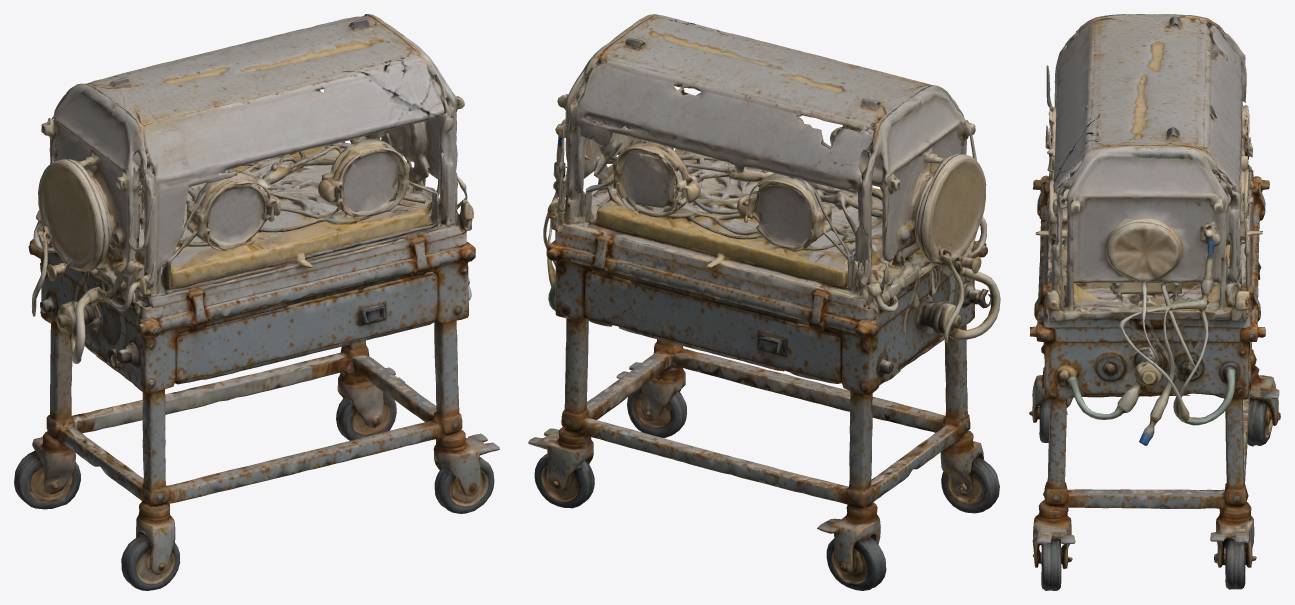
Rendered from Incubator.fbx.
The picture shows the model from 3 angles, left to right: view 1: azimuth 30°, elevation 25°; view 2: azimuth 150°, elevation 25°; view 3: azimuth 270°, elevation 25°; orthographic projection. The views are drawn at different scales.
Parts seen in each view (by area): view 1: texture_mapping; view 2: texture_mapping; view 3: texture_mapping.
Part boxes in pixels (x1,y1,x2,y2): texture_mapping: (14,14,499,590); texture_mapping: (528,14,1000,590); texture_mapping: (1029,14,1280,590).
Size of the model in its own units: 0.9667 by 0.522 by 1.
1 material, 1 textured.
